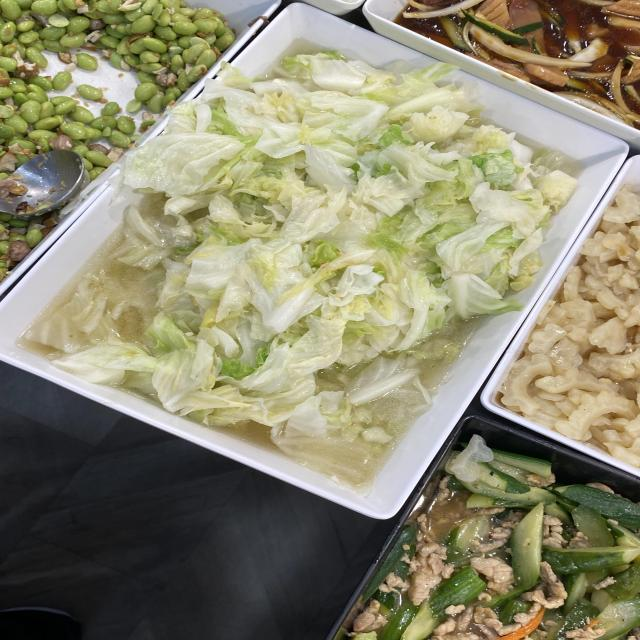cabbage: (182, 130, 461, 355)
